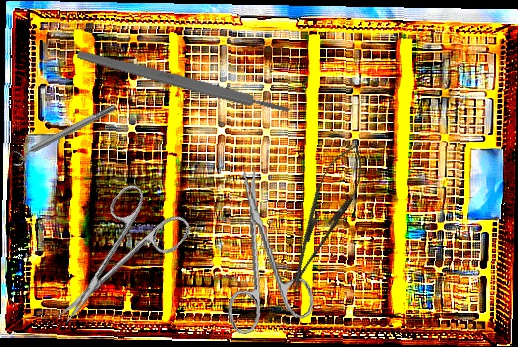Fixation Ring: (7, 99, 120, 169)
Iris Scissors: (30, 174, 195, 346), (208, 161, 318, 336)
Needle Holder: (274, 136, 374, 298)
Scalpel Handle: (76, 47, 291, 118)
